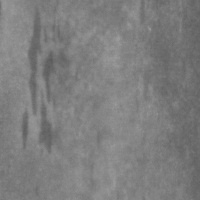inclusion: (19, 3, 65, 157)
